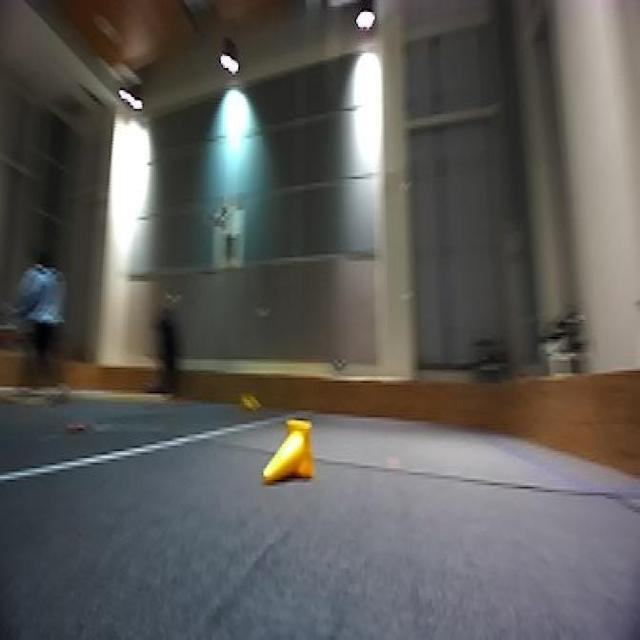frc_cone: (262, 419, 313, 487), (237, 386, 265, 416)
